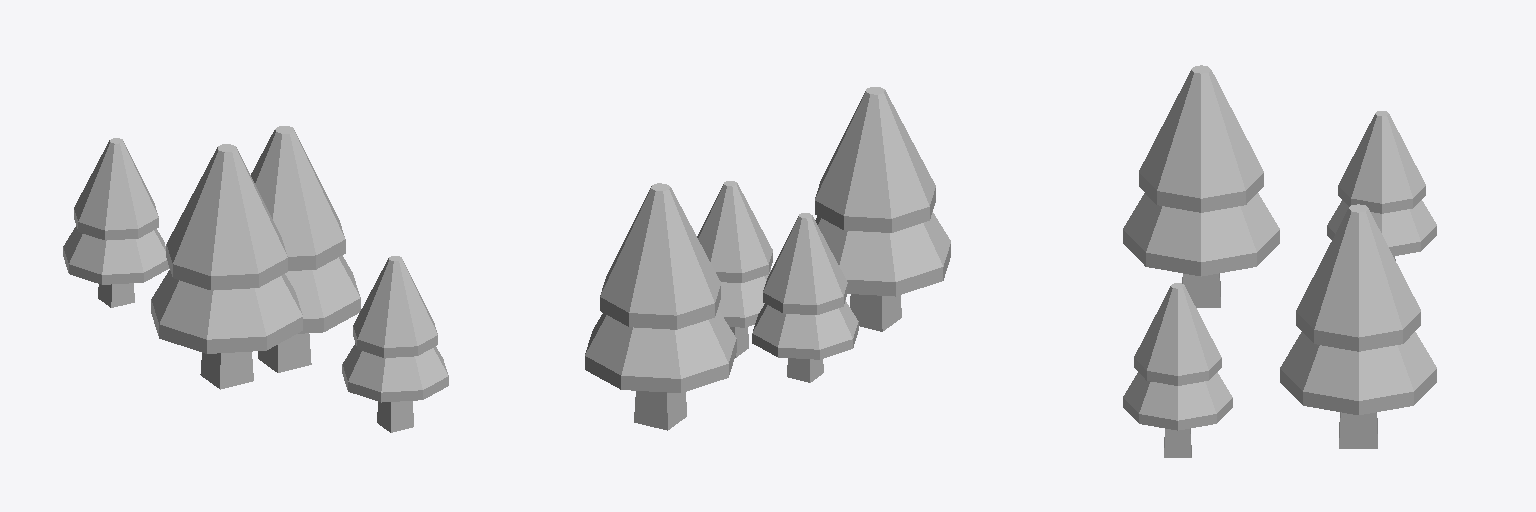
The model's file is TreeQuadDiagonalTile.obj.
3 views of the same model, side by side, from view 1: azimuth 30°, elevation 25°; view 2: azimuth 150°, elevation 25°; view 3: azimuth 270°, elevation 25° (orthographic).
Visible parts, largest first — view 1: tree.008_tree.005; view 2: tree.008_tree.005; view 3: tree.008_tree.005.
Part boxes in pixels (x1,y1,x2,y2): tree.008_tree.005: (63,126,448,432); tree.008_tree.005: (585,87,950,430); tree.008_tree.005: (1123,65,1436,457).
Bounding box in the file's own units: 1 × 1.08 × 1.